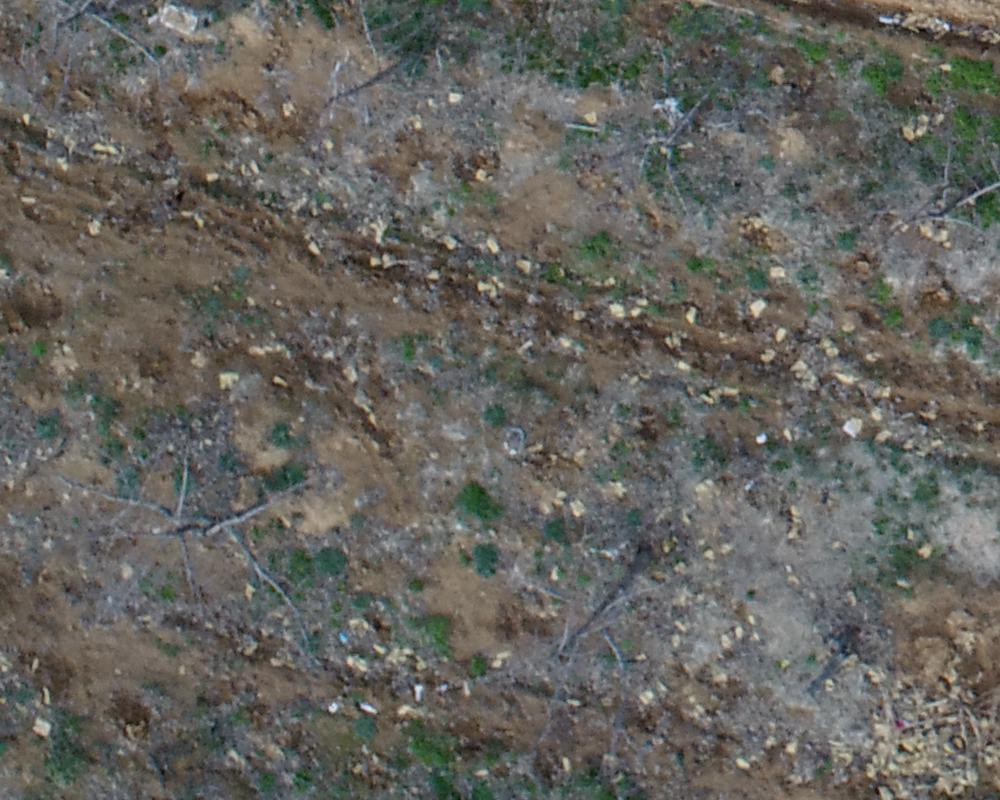apple: (63, 429, 339, 631), (441, 522, 693, 719), (576, 51, 763, 217), (283, 10, 456, 160), (10, 10, 215, 129), (862, 134, 990, 259)
